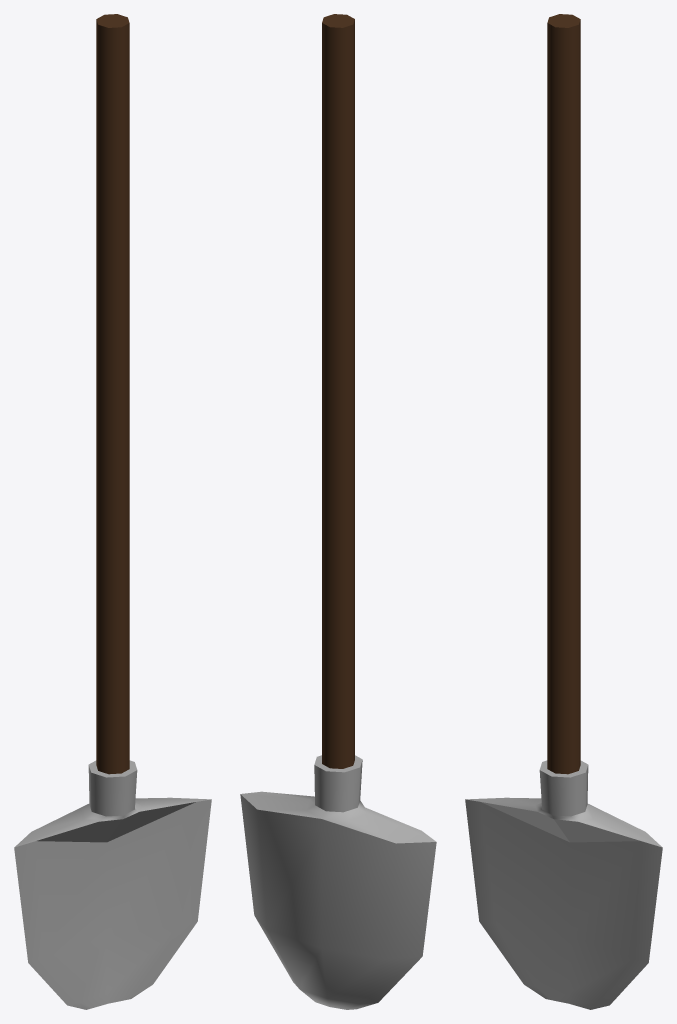
File: shovel.fbx
3 views of the same model, side by side, from view 1: azimuth 30°, elevation 25°; view 2: azimuth 150°, elevation 25°; view 3: azimuth 330°, elevation 25° (orthographic).
Parts seen in each view (by area): view 1: shovel; view 2: shovel; view 3: shovel.
Part boxes in pixels (x1,y1,x2,y2): shovel: (14, 14, 211, 1009); shovel: (240, 14, 436, 1009); shovel: (465, 14, 662, 1009).
Bounding box in the file's own units: 39.02 × 186 × 10.02.
